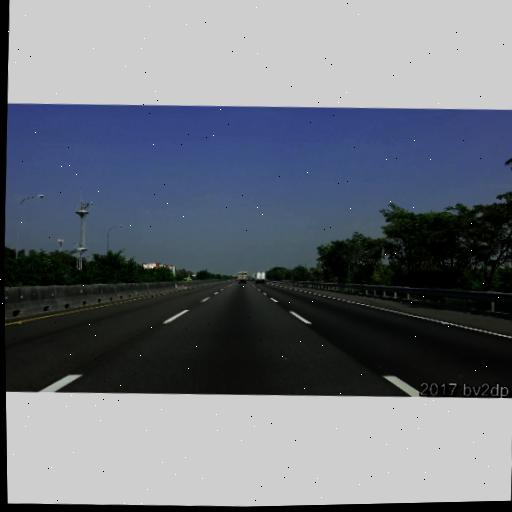Car: (255, 271, 265, 283), (238, 271, 247, 284)
